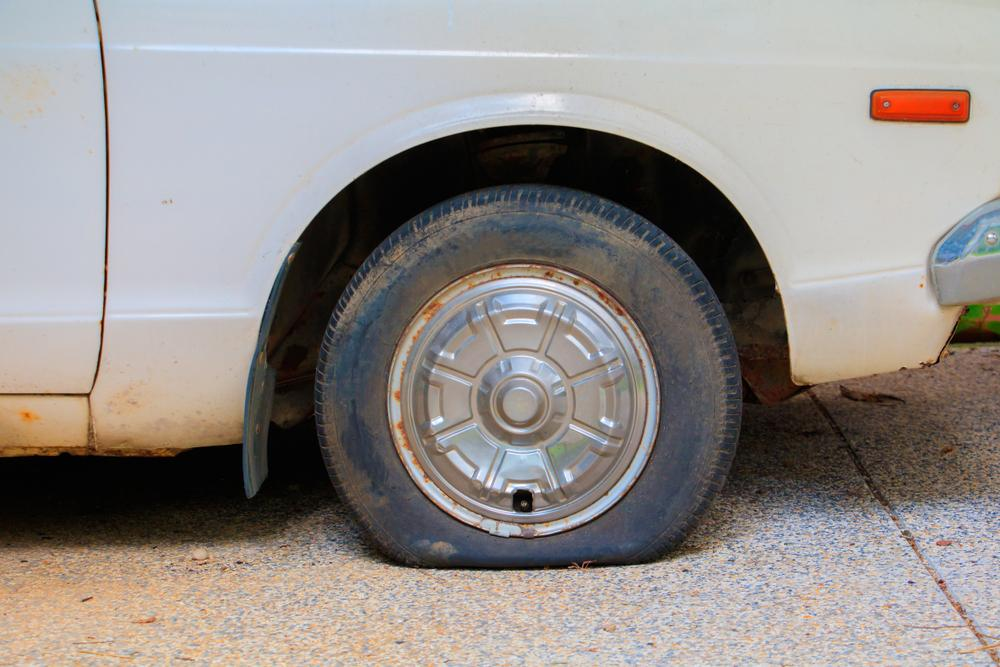tire flat: (315, 185, 744, 572)
